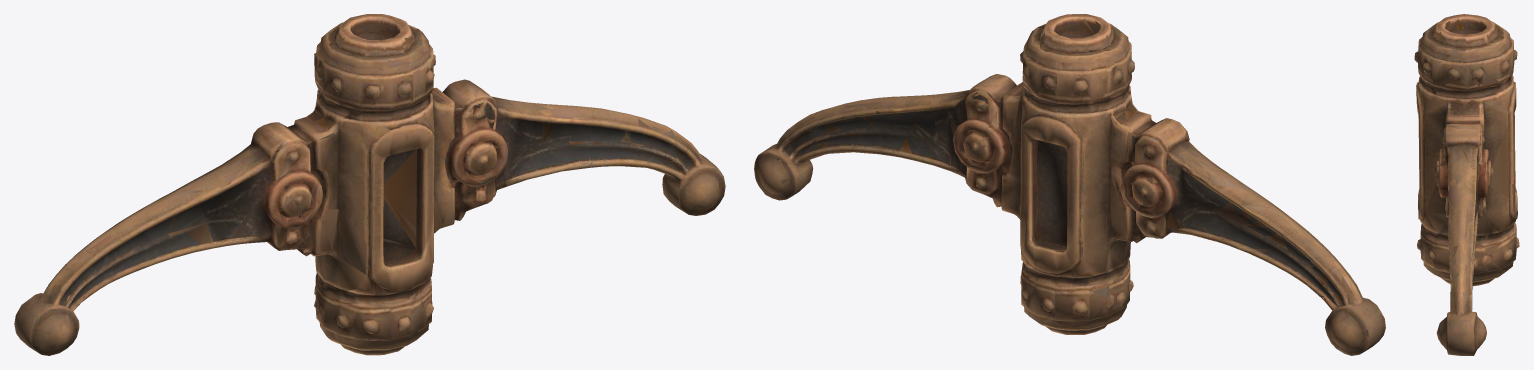
3 views of the same model, side by side, from view 1: azimuth 30°, elevation 25°; view 2: azimuth 150°, elevation 25°; view 3: azimuth 270°, elevation 25° (orthographic). The views are drawn at different scales.
Parts seen in each view (by area): view 1: steampunk_middle_handguard; view 2: steampunk_middle_handguard; view 3: steampunk_middle_handguard.
Part boxes in pixels (left/top/right/bottom): steampunk_middle_handguard: left=14, top=14, right=725, bottom=355; steampunk_middle_handguard: left=754, top=14, right=1385, bottom=355; steampunk_middle_handguard: left=1414, top=14, right=1519, bottom=355.
Bounding box in the file's own units: 0.275 × 0.1212 × 0.0463.
Materials: 1 (1 with a texture image).
